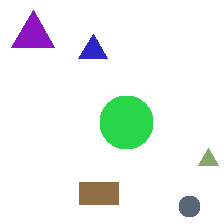circle: (100, 96, 152, 148), (179, 196, 199, 216)
rectangle: (79, 182, 118, 204)
triangle: (11, 10, 54, 47), (78, 34, 107, 58), (198, 148, 218, 165)
